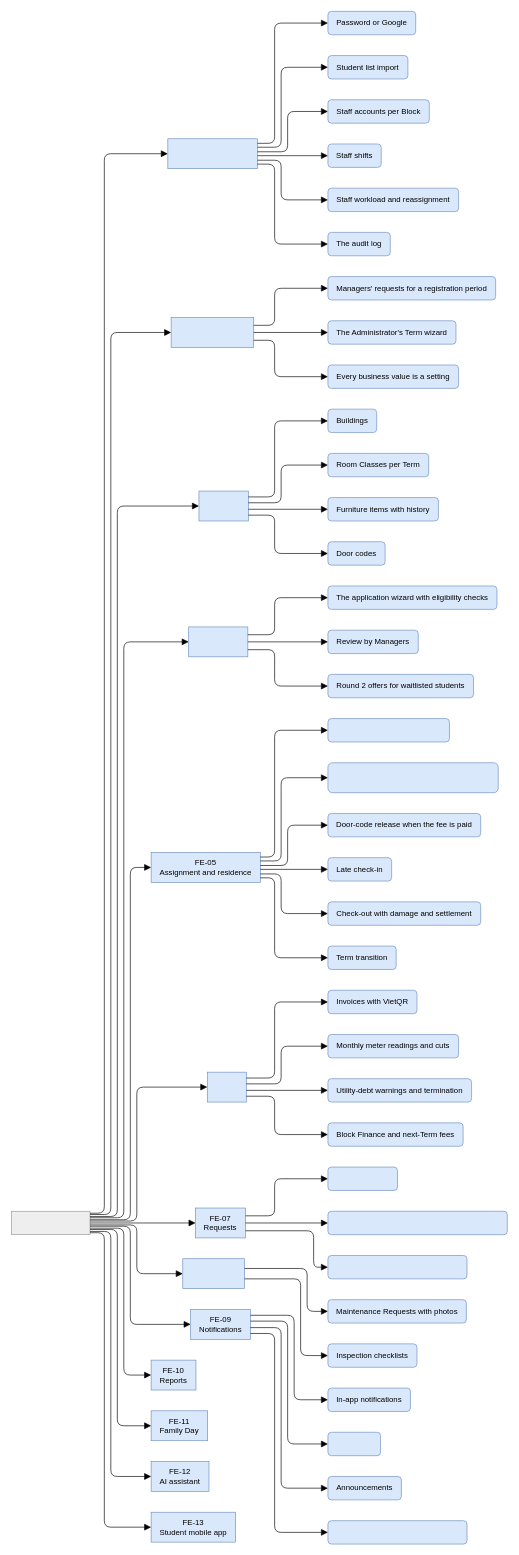
The diagram is 519 pixels wide and 1555 high, and some of its shapes have lost their labels. The shapes that lost their labels are listed below. From the top down, each one's centre as x and y in pixels, then its label:
At point 212,153: "FE-01 Accounts and sign-in".
At point 212,332: "FE-02 Terms and settings".
At point 223,505: "FE-03 Inventory".
At point 218,641: "FE-04 Applications".
At point 388,730: "Assignment runs with conflicts".
At point 412,777: "Check-in with the students' hand-over report and Staff verification".
At point 226,1087: "FE-06 Billing".
At point 362,1178: "Room changes".
At point 50,1223: "CampusStay FPT".
At point 417,1223: "Room Class changes with roommates' consent".
At point 213,1273: "FE-08 Maintenance".
At point 397,1267: "Routing rules and escalation timers".
At point 354,1444: "Templates".
At point 397,1532: "Email campaigns to student groups".
